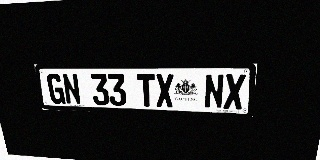3: (90, 74, 110, 106), (107, 74, 127, 106)
G: (46, 74, 66, 104)
N: (204, 74, 225, 109), (62, 74, 81, 105)
T: (137, 74, 156, 107)
X: (223, 74, 246, 110), (155, 74, 174, 108)
